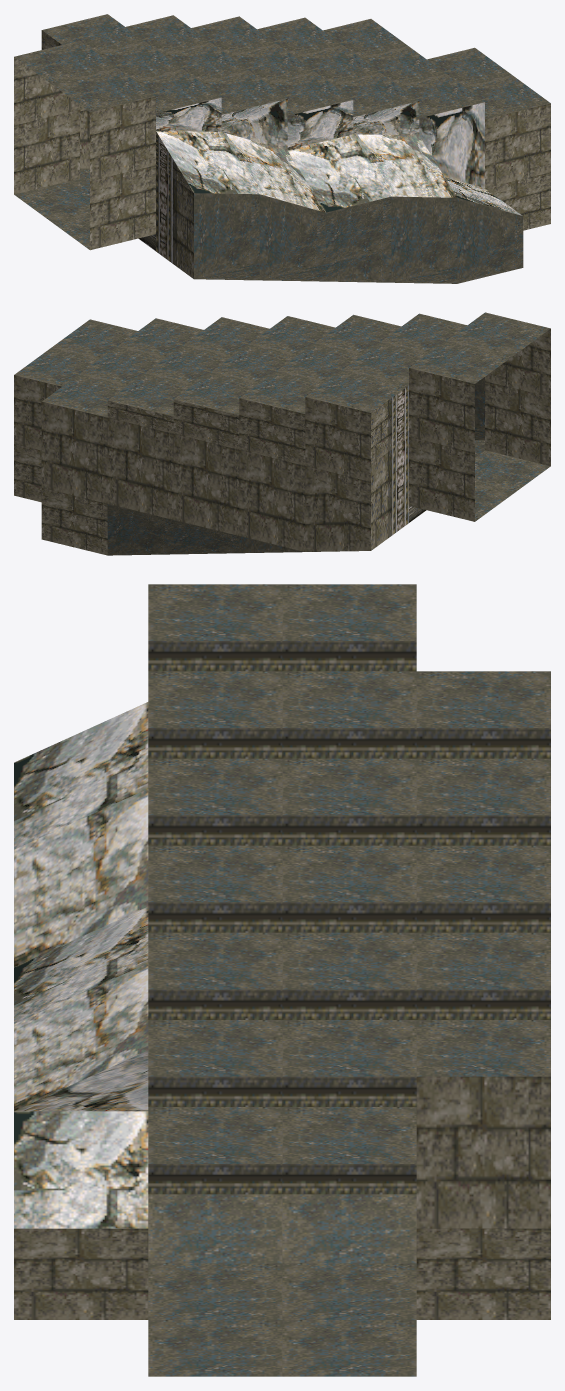
The model's file is room34.obj.
3 renders of one model, top to bottom at view 1: azimuth 30°, elevation 25°; view 2: azimuth 150°, elevation 25°; view 3: azimuth 270°, elevation 25°, orthographic. The views are drawn at different scales.
Visible parts, largest first — view 1: 01-Caves.034; view 2: 01-Caves.034; view 3: 01-Caves.034.
Part boxes in pixels (x1,y1,x2,y2): 01-Caves.034: (14,14,550,283); 01-Caves.034: (14,312,550,555); 01-Caves.034: (14,584,550,1376).
Bounding box in the file's own units: 70 × 32.5 × 40.
1 material, 1 textured.
